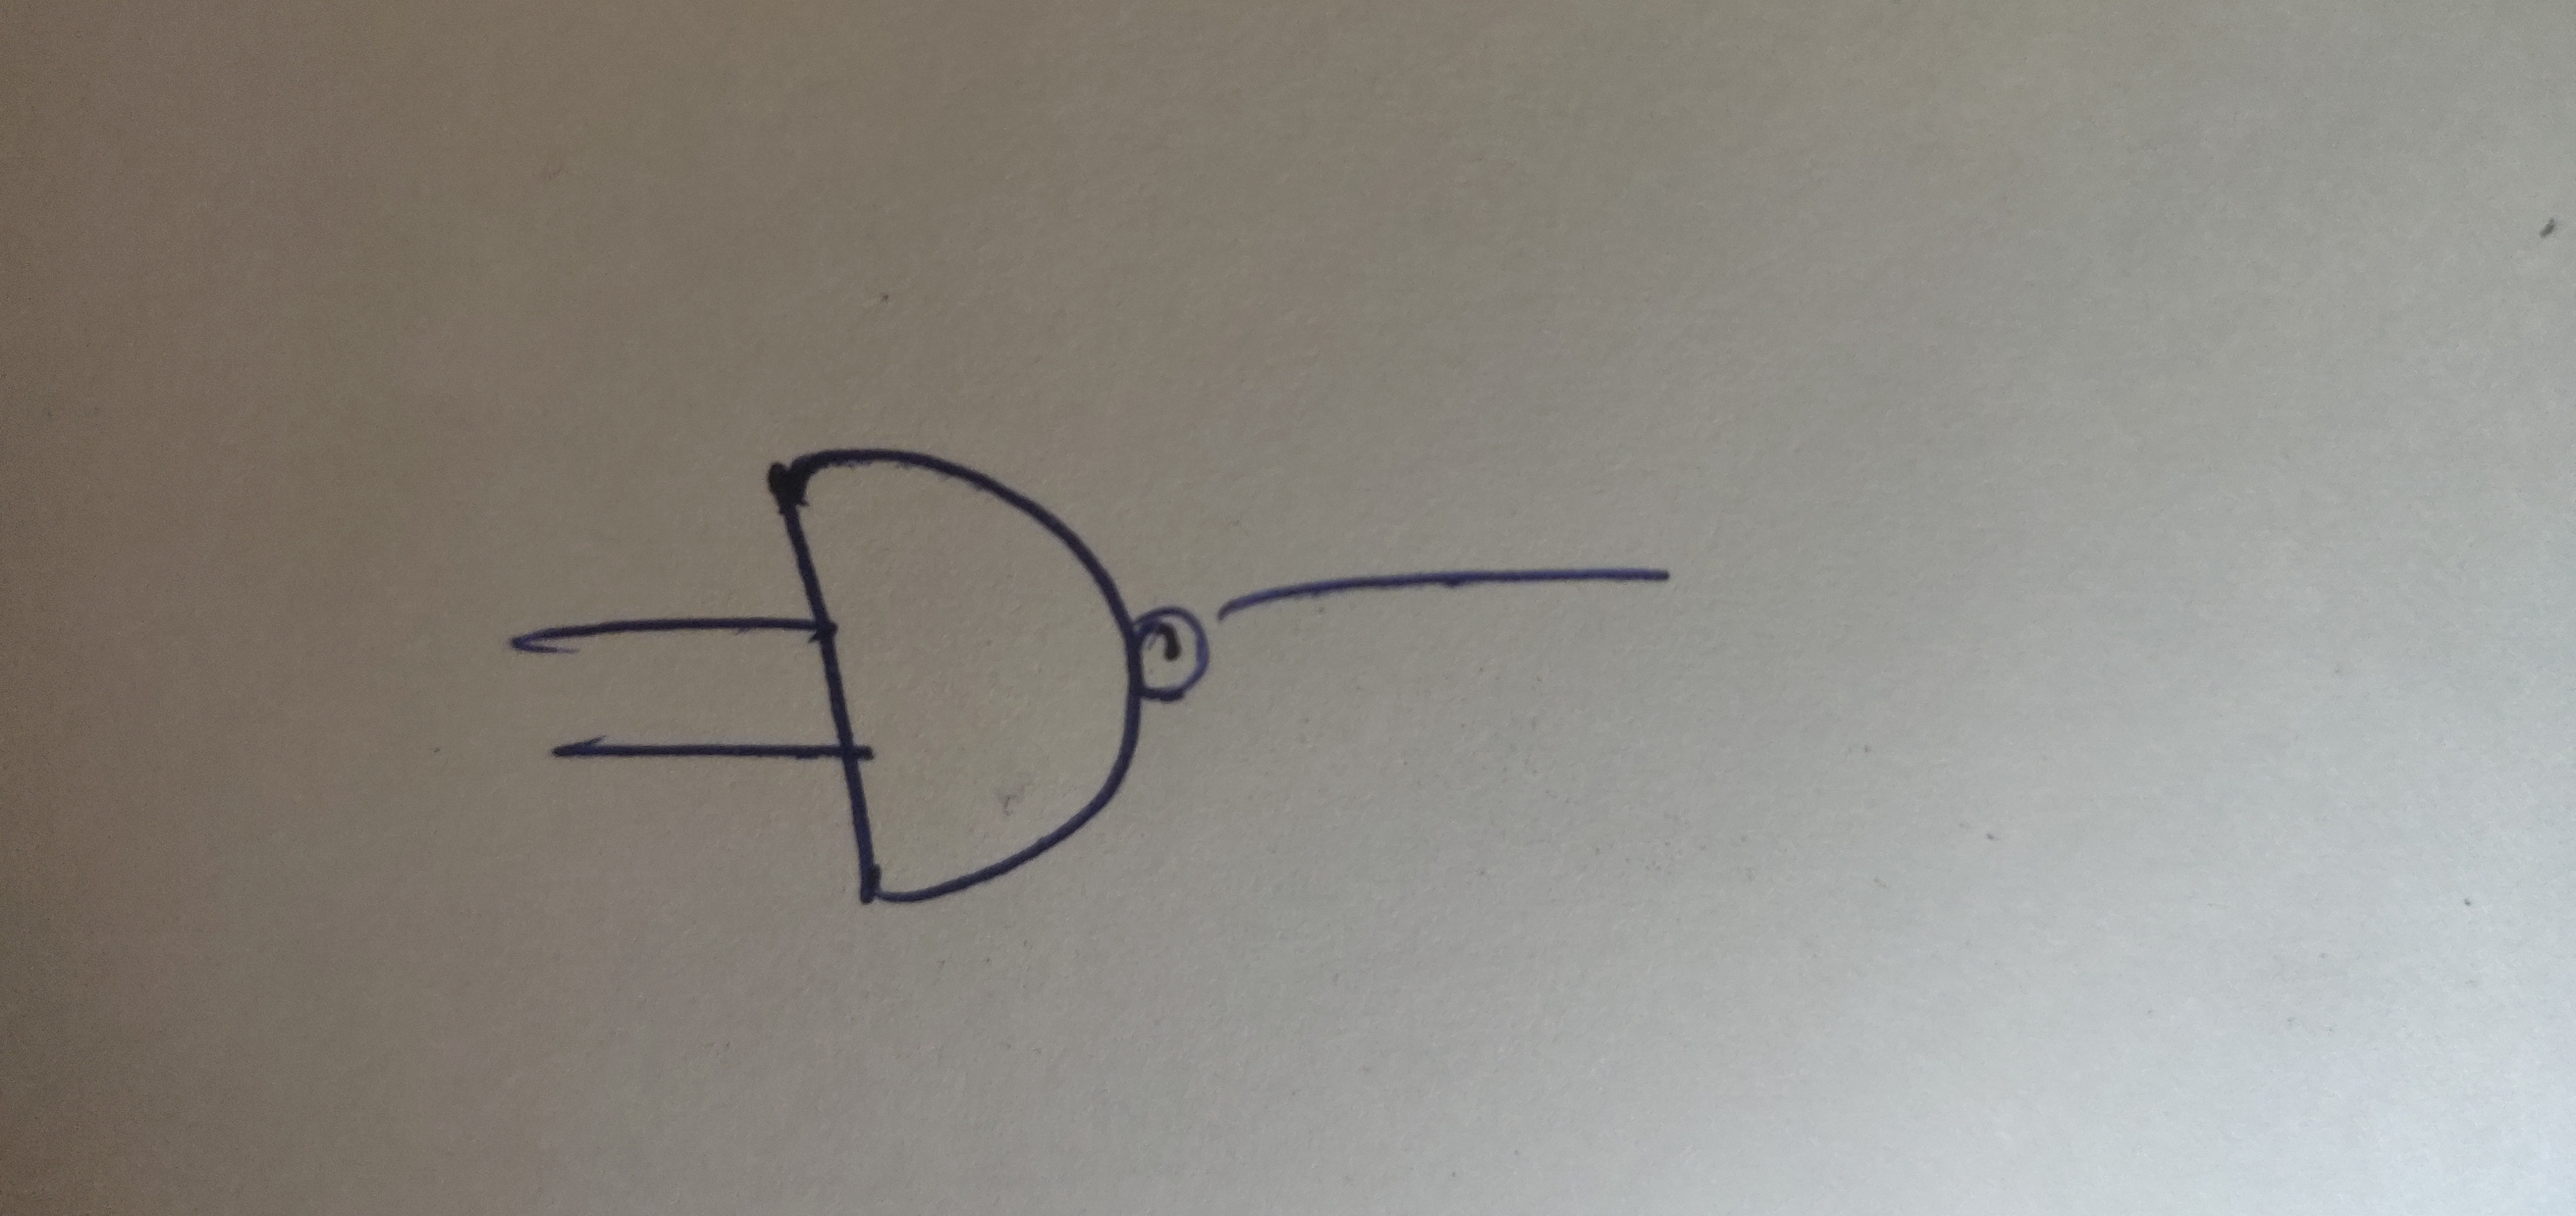nand: (713, 408, 1311, 983)
